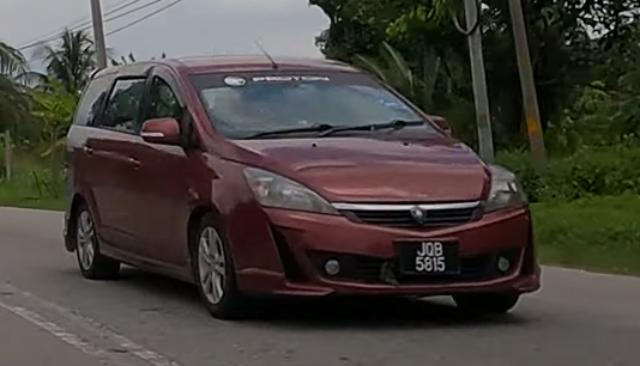License_Plate: (396, 239, 460, 278)
car: (62, 49, 542, 321)
